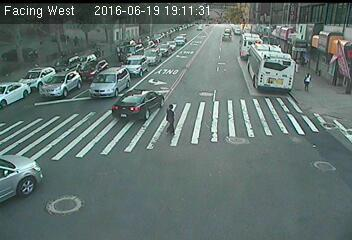neg: (252, 67, 273, 95)
pos: (157, 102, 183, 137), (299, 69, 317, 93)
